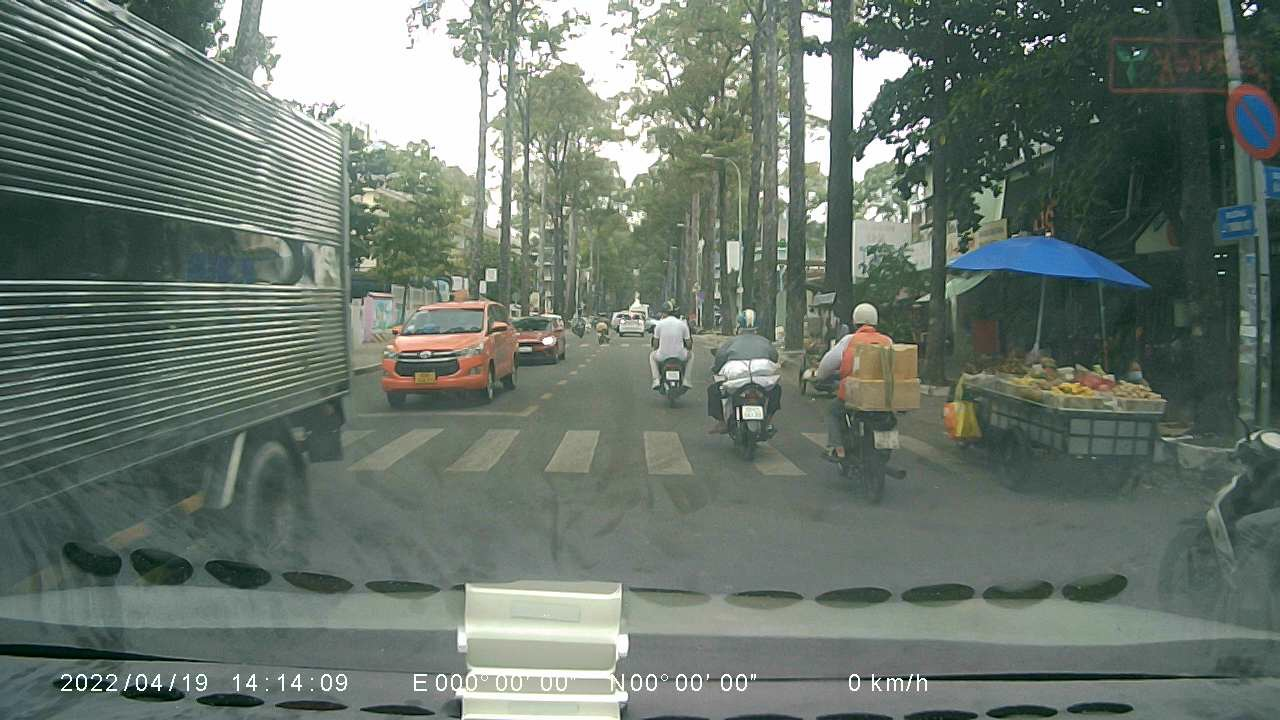Cam do xe: (1222, 79, 1279, 163)
